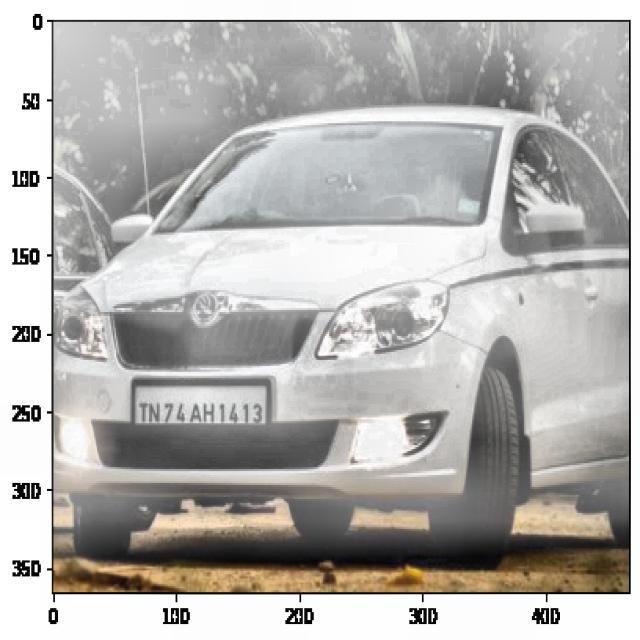license_plate: (138, 382, 271, 436)
